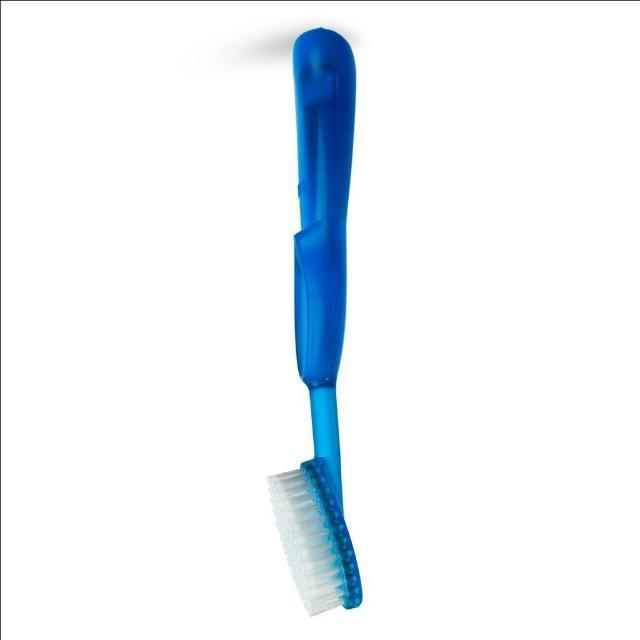toothbrush: (252, 0, 398, 640)
